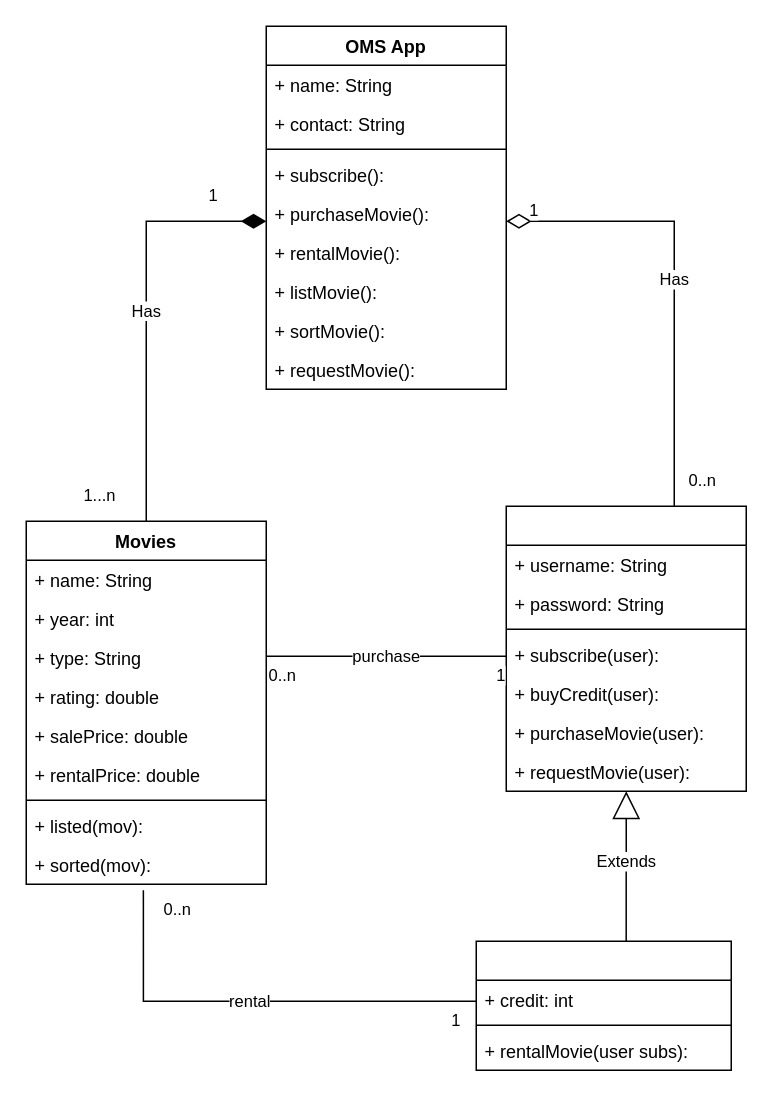
This 773x1101 diagram has some shape labels left out. The box of each missing label's shape, as (x1, y1, x2, y2) in pixels:
Subscriber: (475, 940, 731, 1070)
Users: (505, 505, 746, 791)
